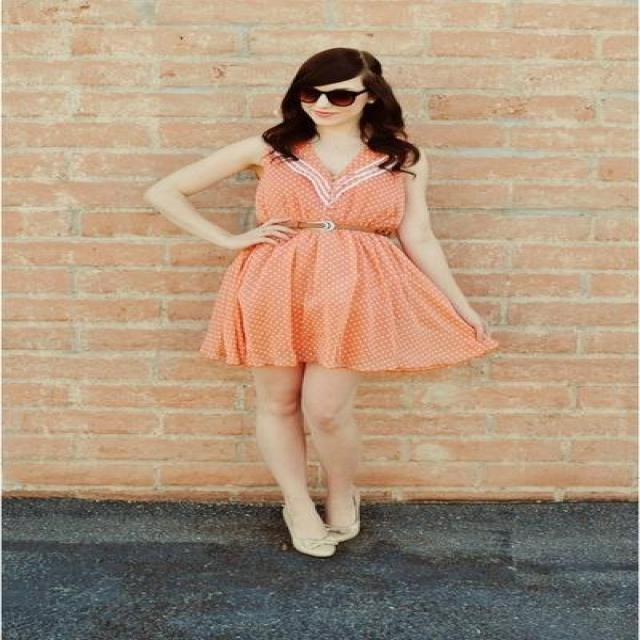dress: (200, 141, 493, 384)
shoe: (292, 499, 358, 556)
